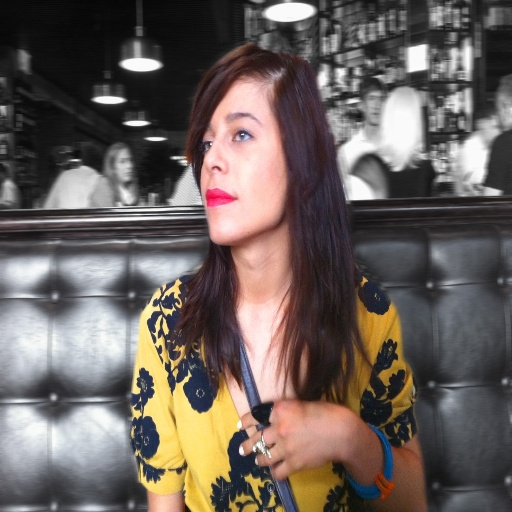hand: (239, 395, 347, 481)
